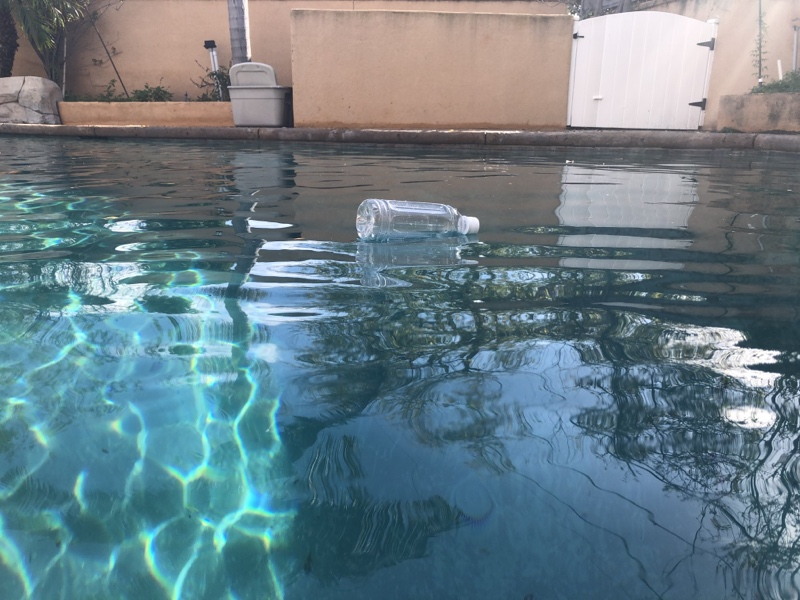Plastic Bottle: (353, 198, 482, 243)
